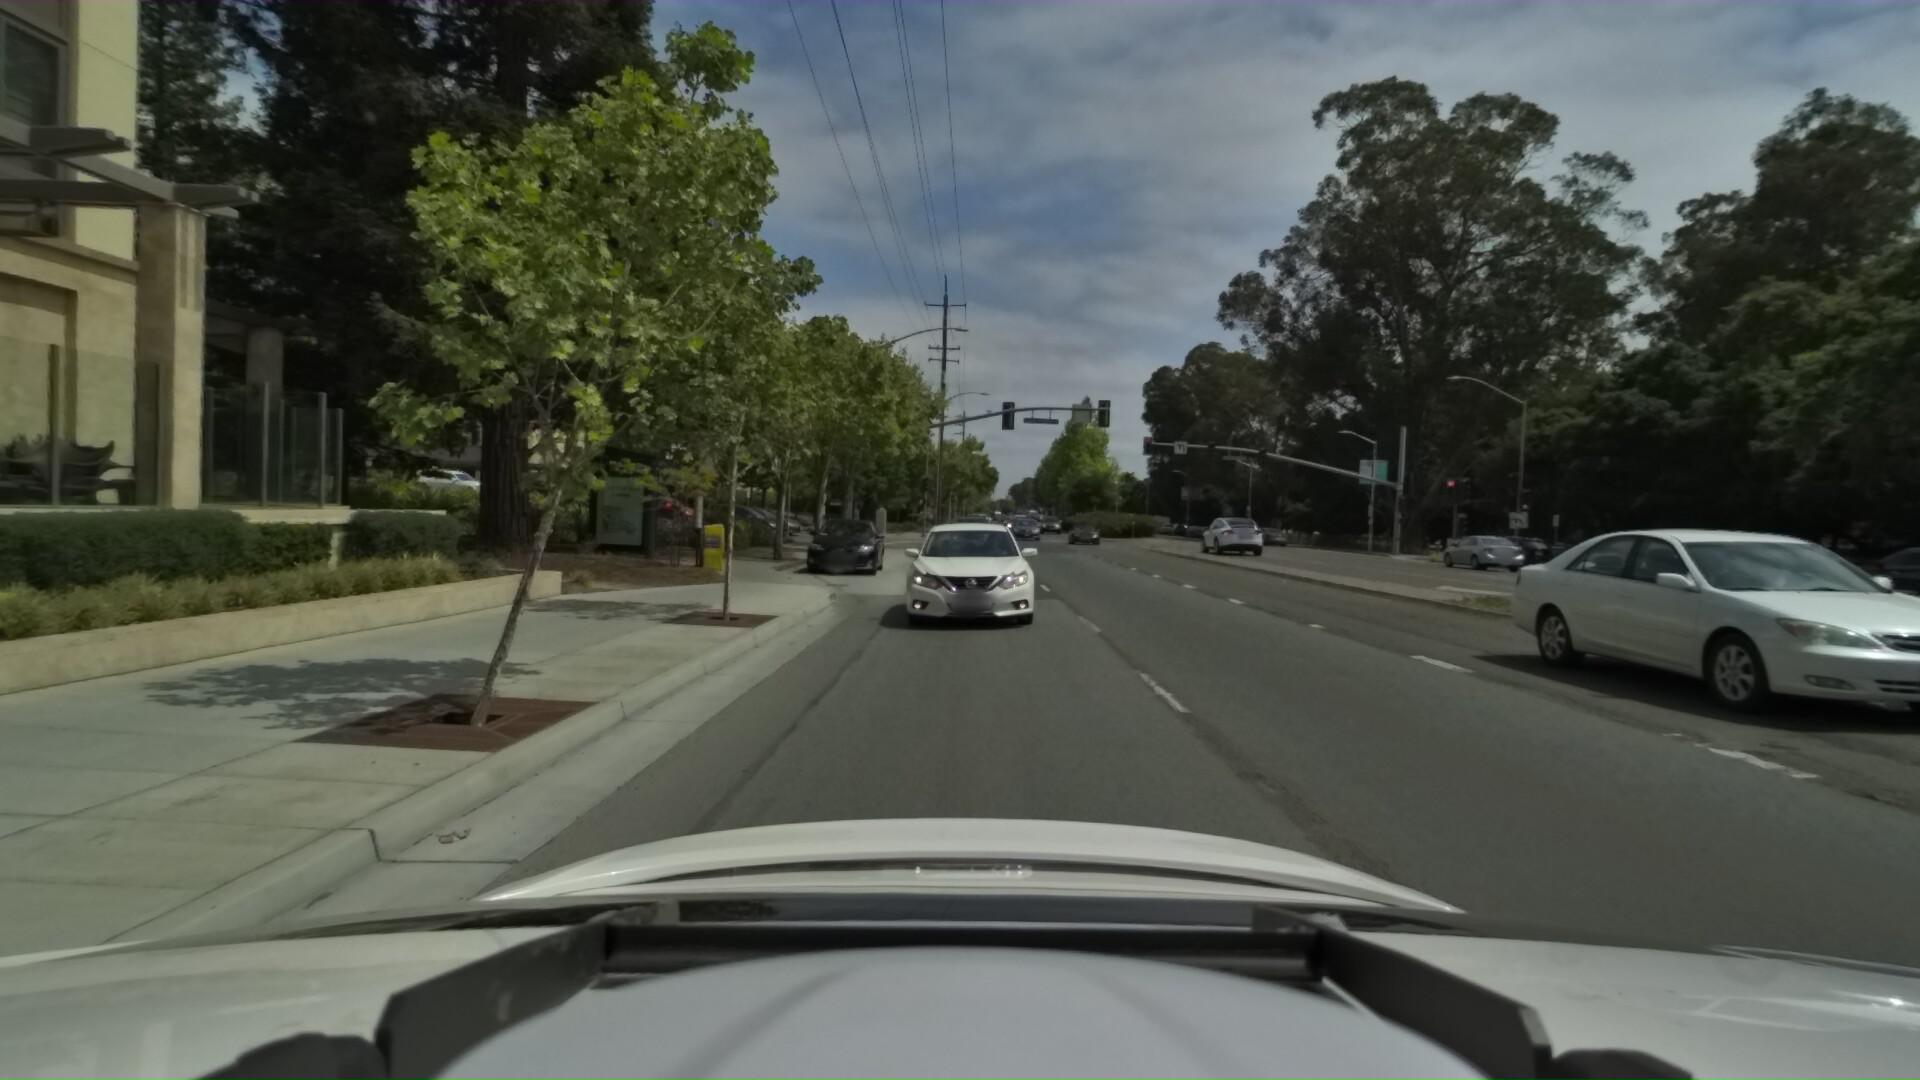car: (1437, 440, 1920, 721), (893, 514, 1043, 634), (1816, 537, 1920, 613), (803, 514, 885, 580), (1422, 527, 1524, 572), (700, 501, 790, 541), (1192, 512, 1261, 556), (1472, 529, 1553, 566), (715, 502, 806, 534), (622, 493, 705, 522), (945, 512, 996, 555), (1062, 512, 1102, 541), (1247, 524, 1294, 545), (1009, 513, 1040, 539)
